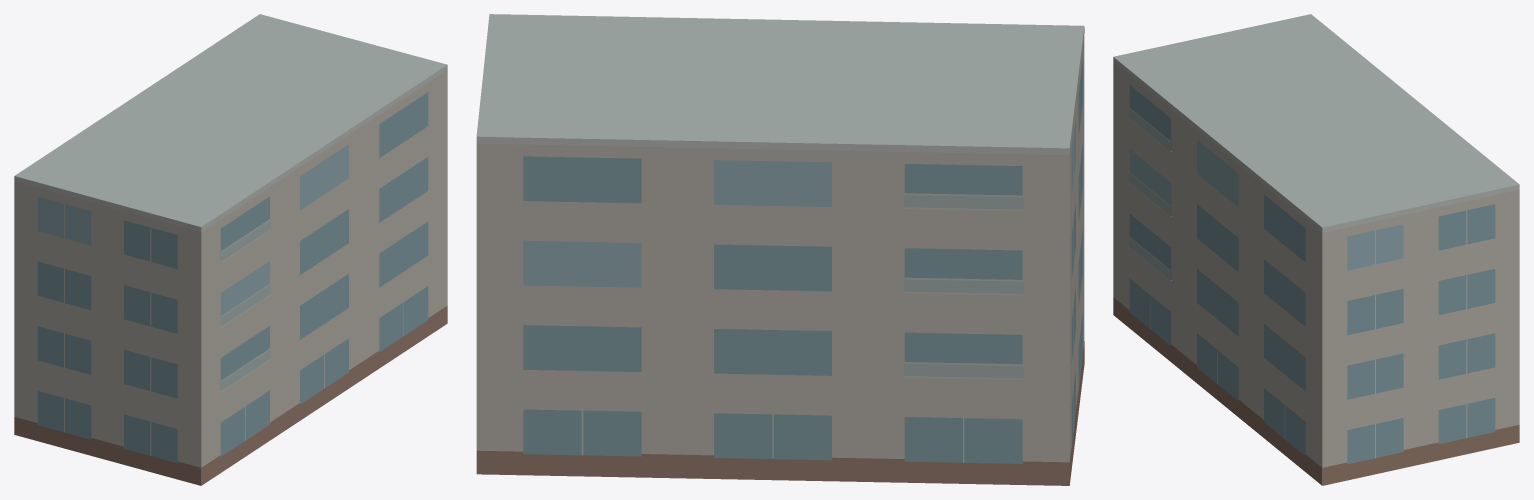
The model's file is survey-upis-32730953.glb.
The picture shows the model from 3 angles, left to right: view 1: azimuth 30°, elevation 25°; view 2: azimuth 150°, elevation 25°; view 3: azimuth 270°, elevation 25°; orthographic projection. The views are drawn at different scales.
Parts seen in each view (by area): view 1: survey-upis-32730953.tmp; view 2: survey-upis-32730953.tmp; view 3: survey-upis-32730953.tmp.
Part boxes in pixels (left/top/right/bottom): survey-upis-32730953.tmp: left=14, top=14, right=447, bottom=485; survey-upis-32730953.tmp: left=476, top=14, right=1084, bottom=485; survey-upis-32730953.tmp: left=1113, top=14, right=1519, bottom=485.
Size of the model in its own units: 21.67 by 12.2 by 17.42.
